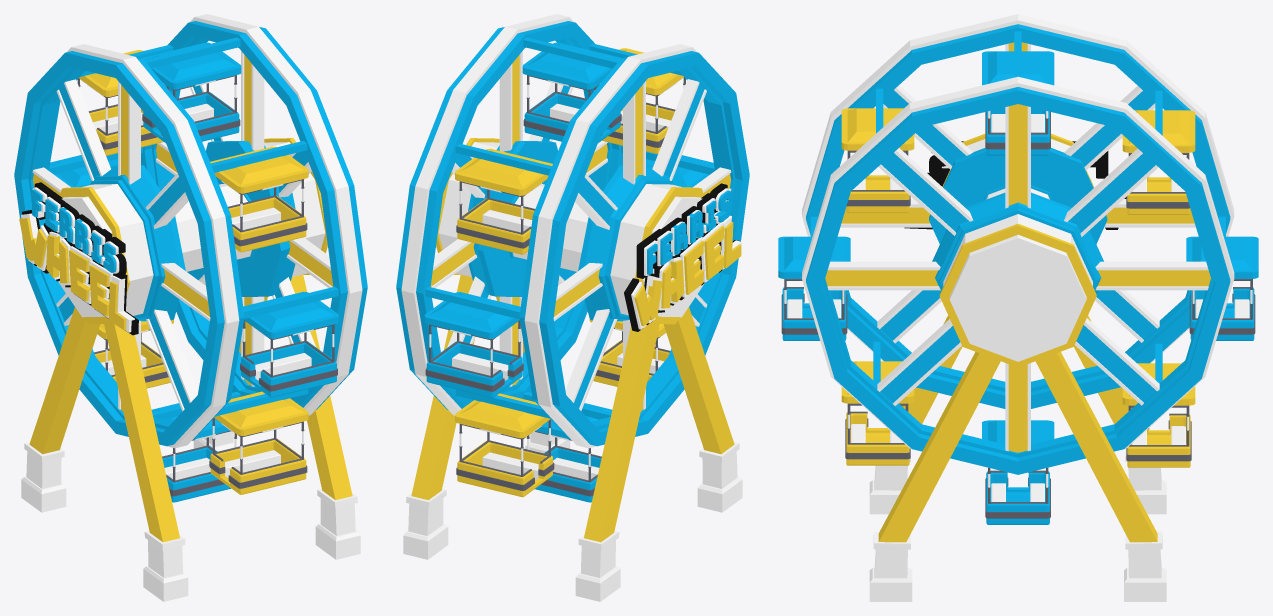
Rendered from feria.glb.
The picture shows the model from 3 angles, left to right: view 1: azimuth 30°, elevation 25°; view 2: azimuth 150°, elevation 25°; view 3: azimuth 270°, elevation 25°; orthographic projection. The views are drawn at different scales.
Visible parts, largest first — view 1: Ferris_0; view 2: Ferris_0; view 3: Ferris_0.
Boxes of the visible parts, x1,y1,x2,y2 form: Ferris_0: (14, 14, 367, 601); Ferris_0: (396, 14, 749, 601); Ferris_0: (778, 14, 1258, 601).
Size of the model in its own units: 29.61 by 60.23 by 52.13.
